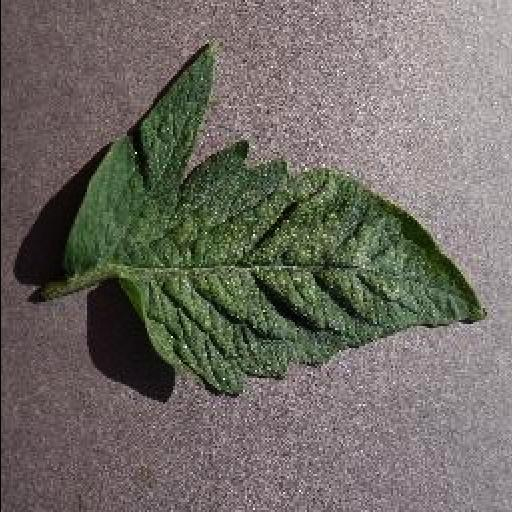disease_tomato: (62, 45, 488, 399)
